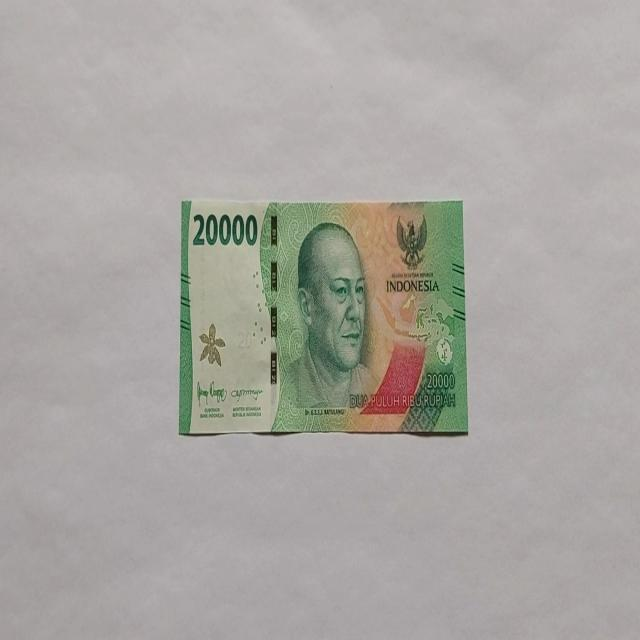dua puluh ribu rupiah: (178, 196, 468, 436), (272, 219, 381, 432)
